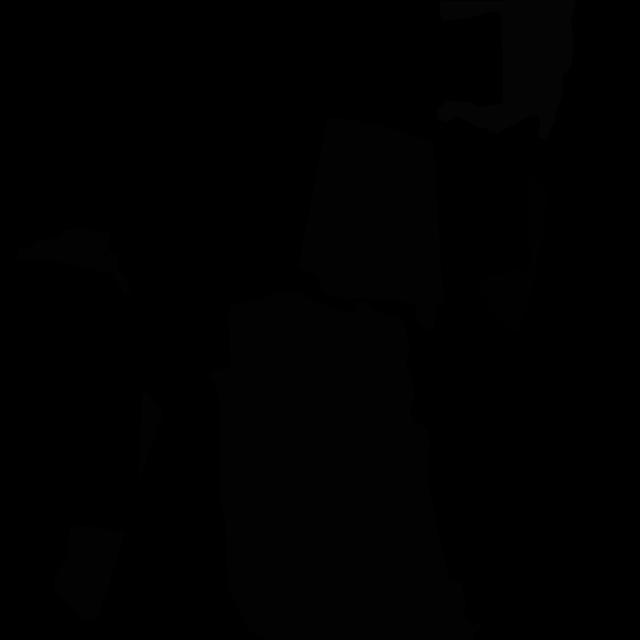cardboard: (208, 293, 484, 640), (298, 118, 447, 330), (16, 228, 132, 295), (54, 525, 126, 623), (139, 390, 164, 483)
rigid_plastic: (478, 176, 549, 335)
soft_plastic: (436, 0, 577, 141)
